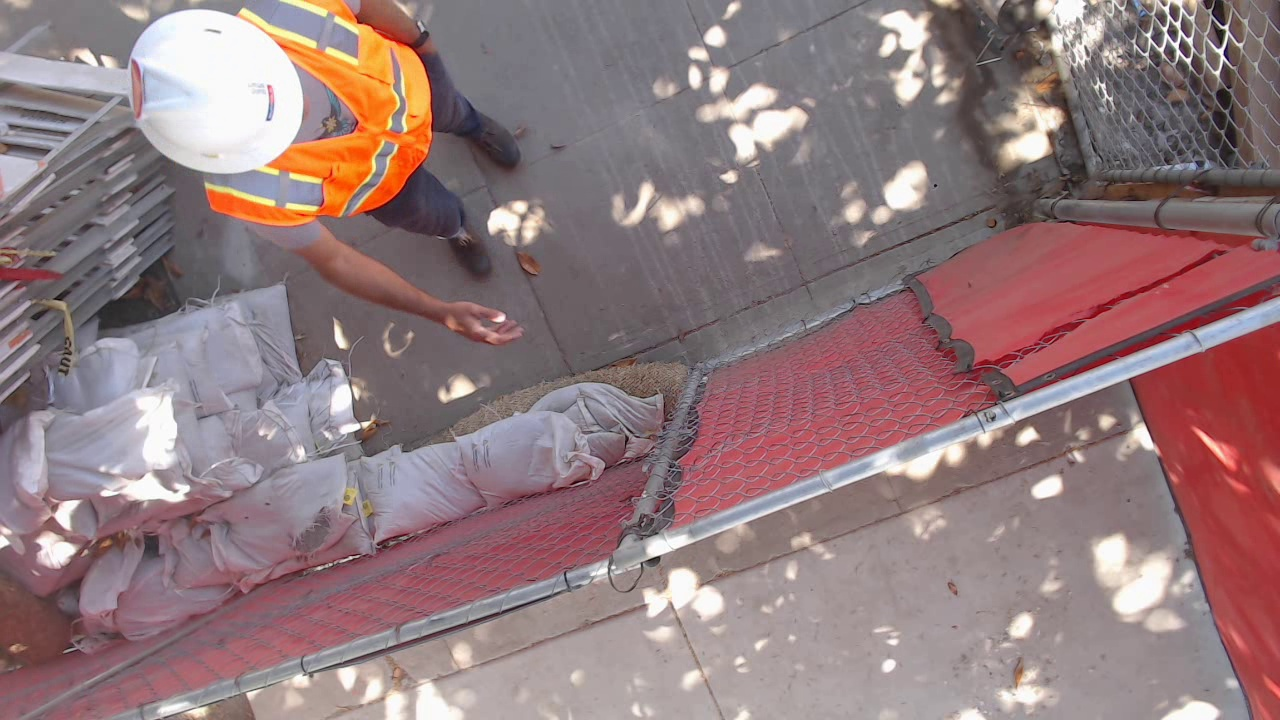hardhat: (129, 7, 304, 174)
person: (130, 1, 527, 347)
red: (127, 59, 144, 120)
safetyvest: (204, 1, 432, 223)
